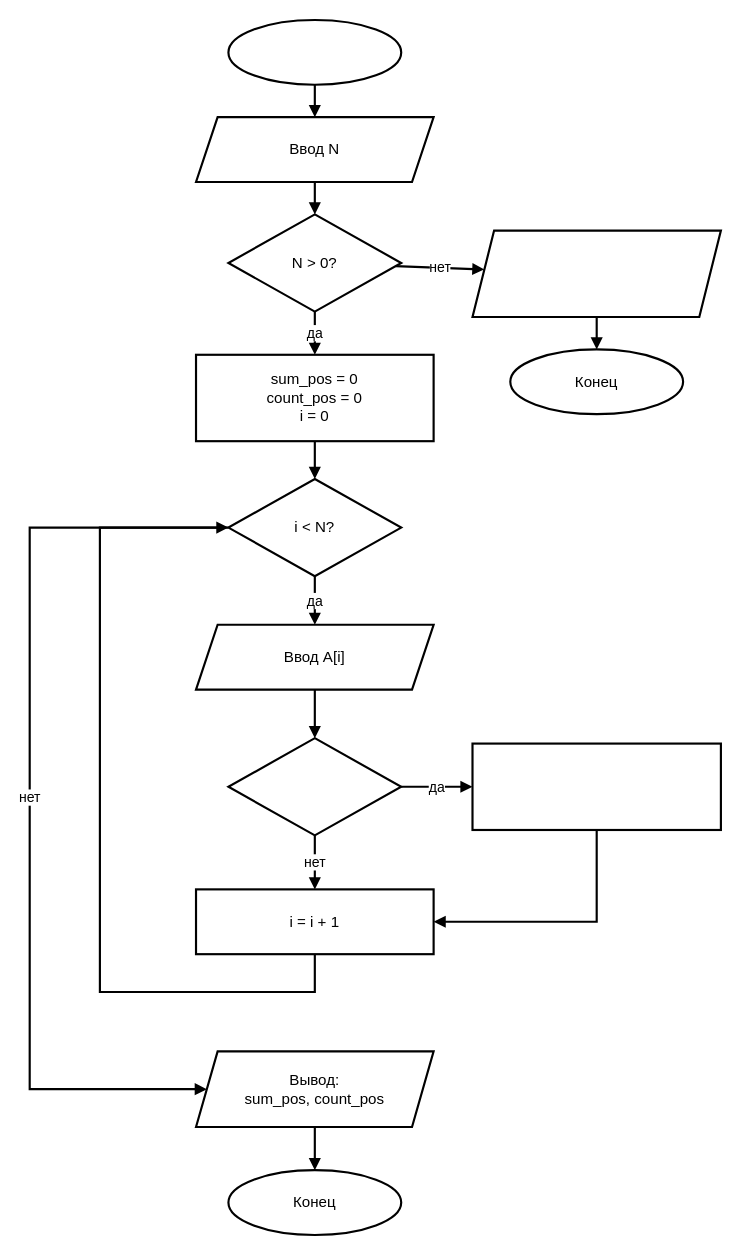
The diagram is 740 pixels wide and 1254 high, and some of its shapes have lost their labels. Each missing label, with the centre of its shape:
"A[i] > 0?" goes at pixel 314 786.
"sum_pos = sum_pos + A[i] count_pos = count_pos + 1" goes at pixel 596 786.
"Вывод сообщения об ошибке: N должно быть положительным" goes at pixel 596 273.
"Начало" goes at pixel 314 51.
